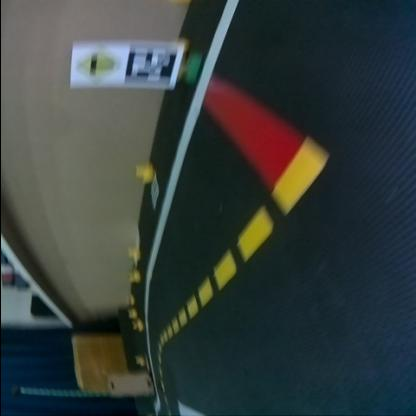Duckie: (136, 164, 152, 178), (126, 249, 138, 260), (130, 320, 140, 332), (134, 356, 144, 366), (127, 271, 138, 280), (126, 309, 134, 315), (125, 296, 130, 304)
Intersection sign: (70, 42, 118, 86)
QR code: (123, 43, 176, 89), (150, 177, 158, 208)
